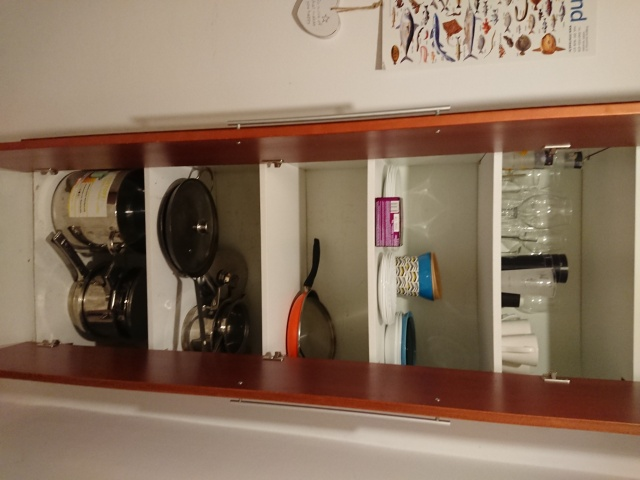Franck Black Currant Tea 60g: (372, 195, 405, 249)
